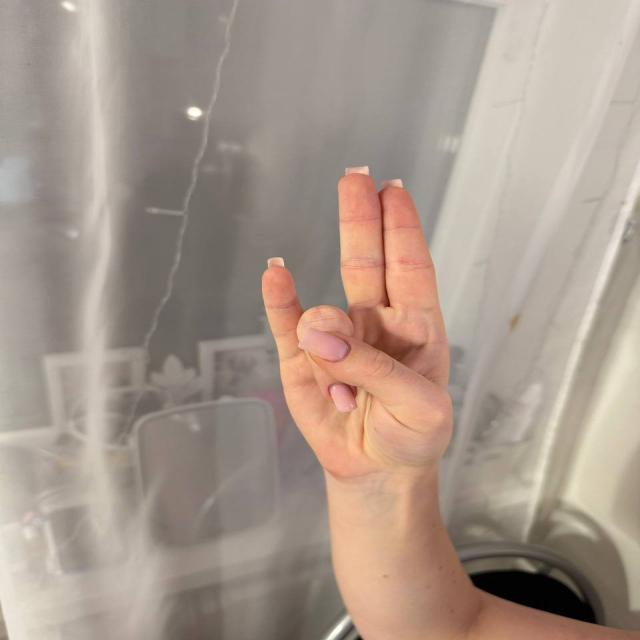n: (216, 132, 504, 470)
